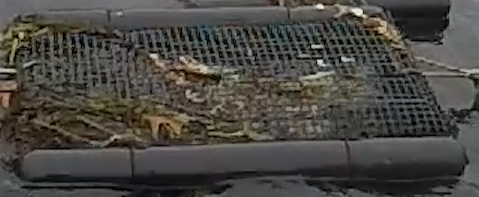bag: (1, 5, 470, 190)
